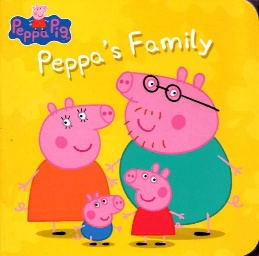Peppa: (123, 162, 185, 247)
